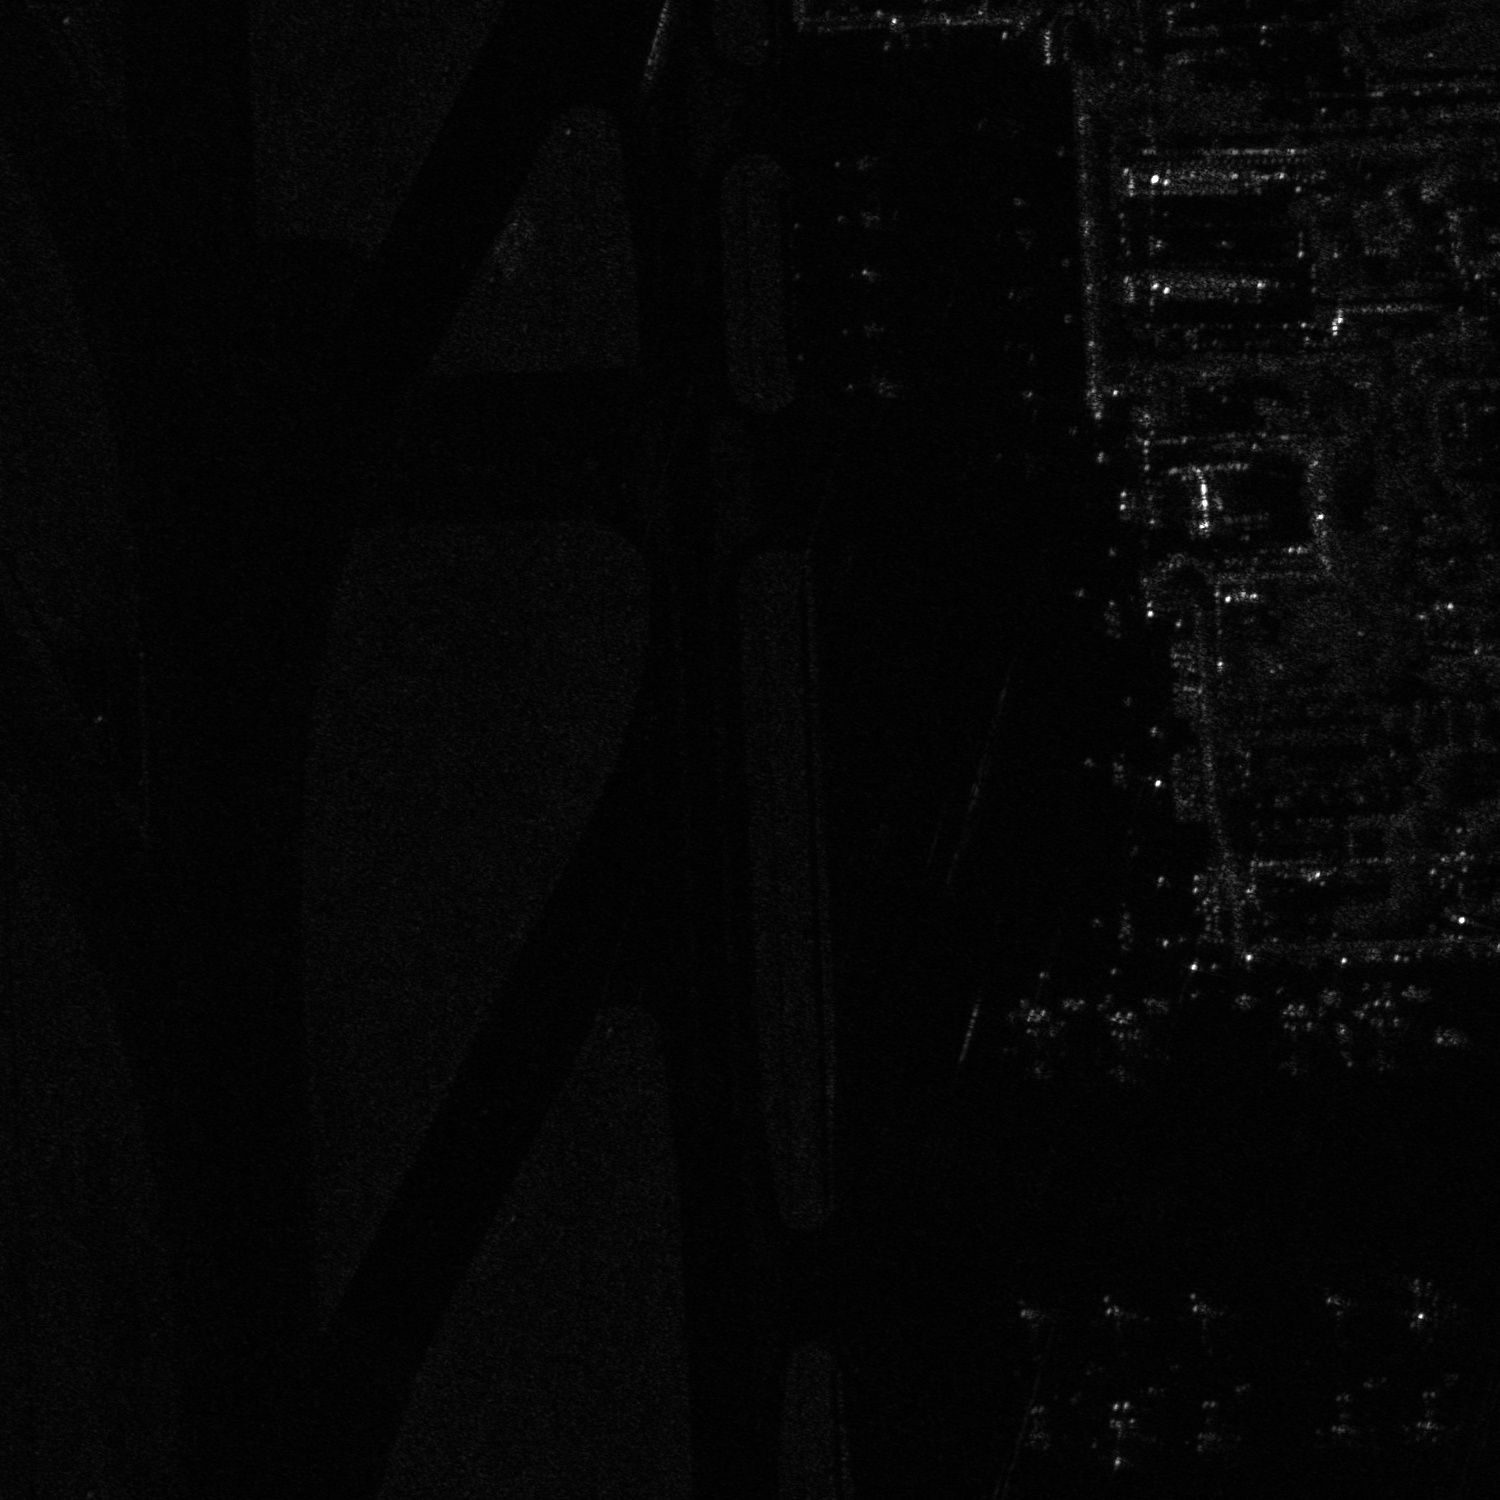A220: (1306, 1387, 1383, 1455)
A320/321: (993, 996, 1074, 1080)
ARJ21: (1401, 1387, 1463, 1449), (1181, 1396, 1240, 1457), (1011, 1402, 1066, 1455)
Boeing737: (1082, 1007, 1174, 1089), (1084, 1394, 1157, 1477), (1264, 996, 1328, 1076)
other: (1343, 995, 1422, 1074), (1385, 1273, 1460, 1348), (1089, 1293, 1148, 1363), (1172, 1290, 1228, 1360), (1005, 1295, 1058, 1371), (1310, 1282, 1365, 1346)
